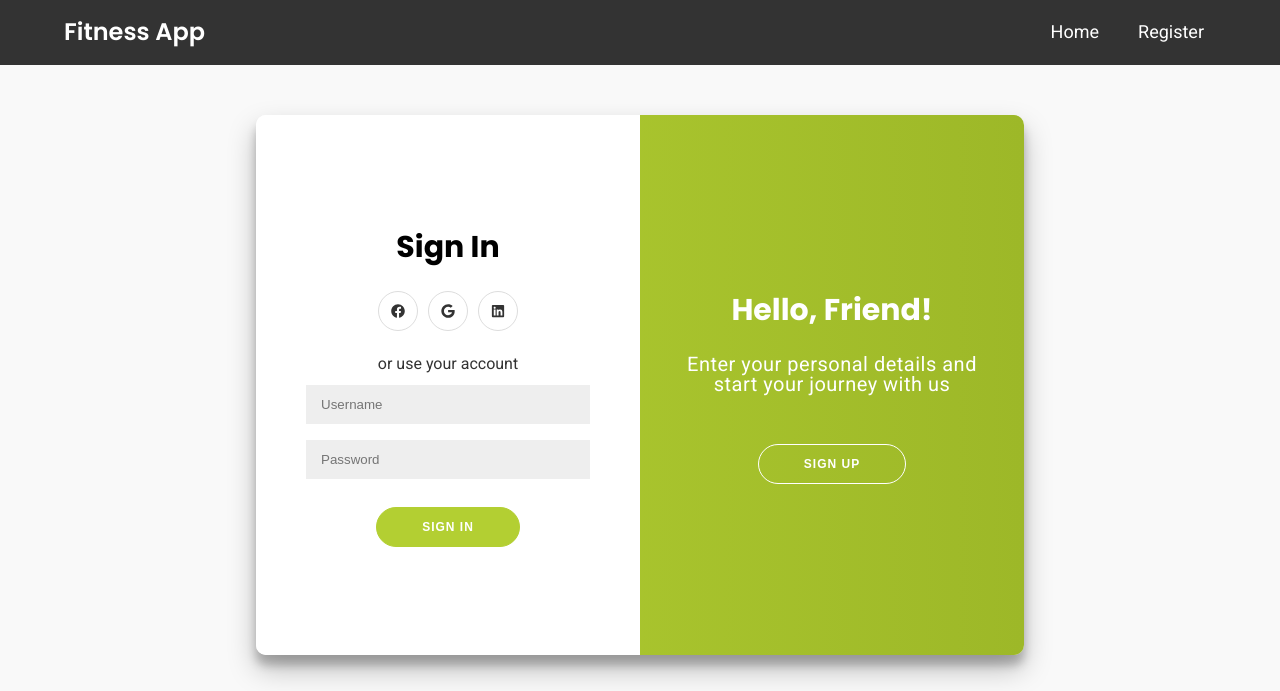
Test: AuthContainer E2E Tests › should toggle back to Sign In panel when clicking Sign In
Click the button with test id "sign-up-button": (832, 464) [758, 444, 906, 484]
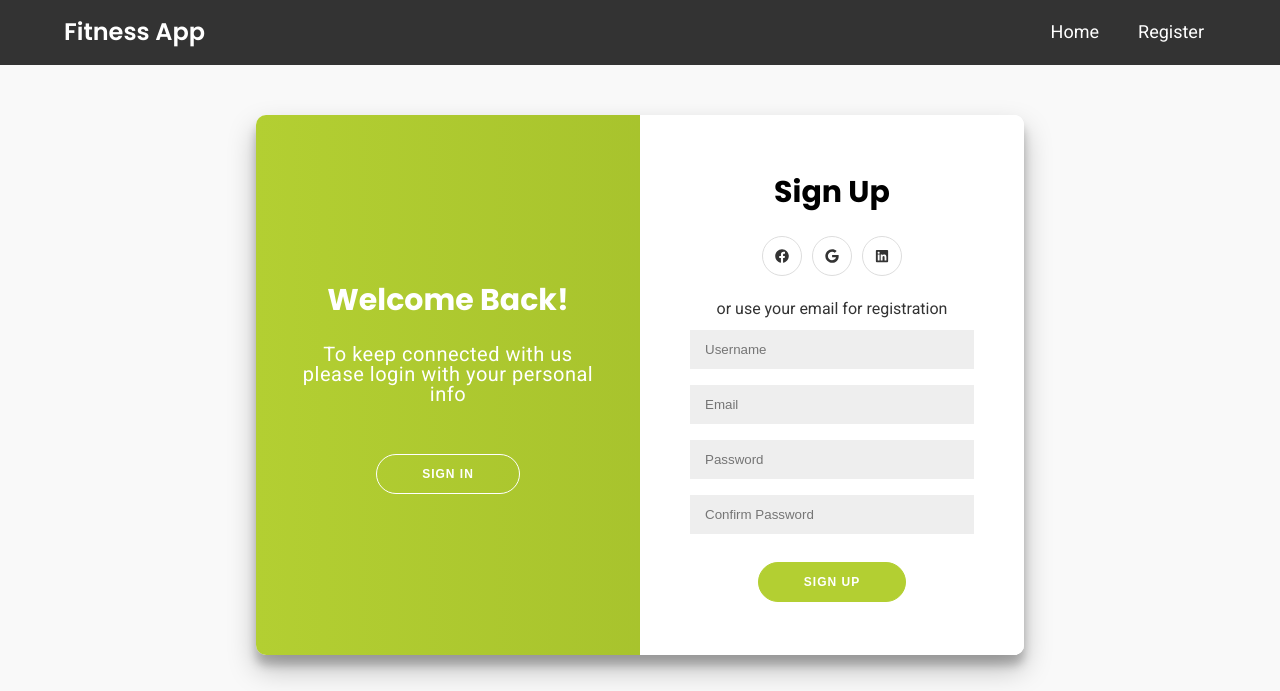
Scroll
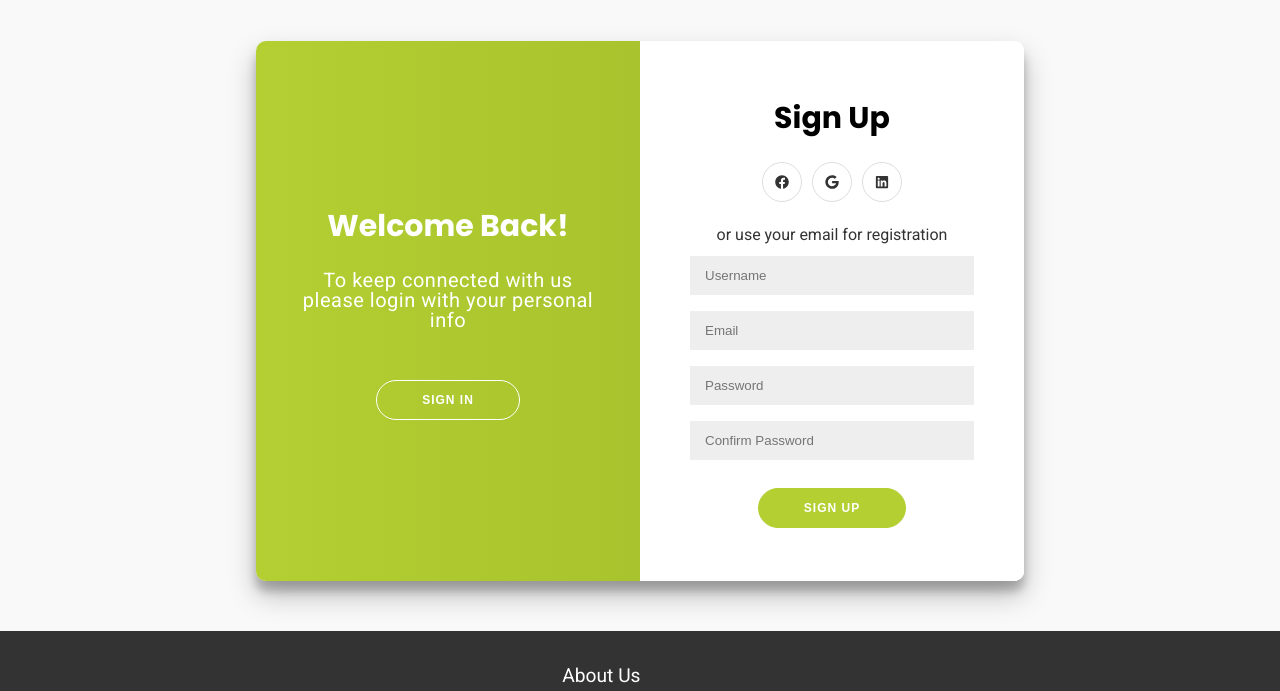
Click the button with test id "sign-in-button": (448, 400) [376, 380, 520, 420]
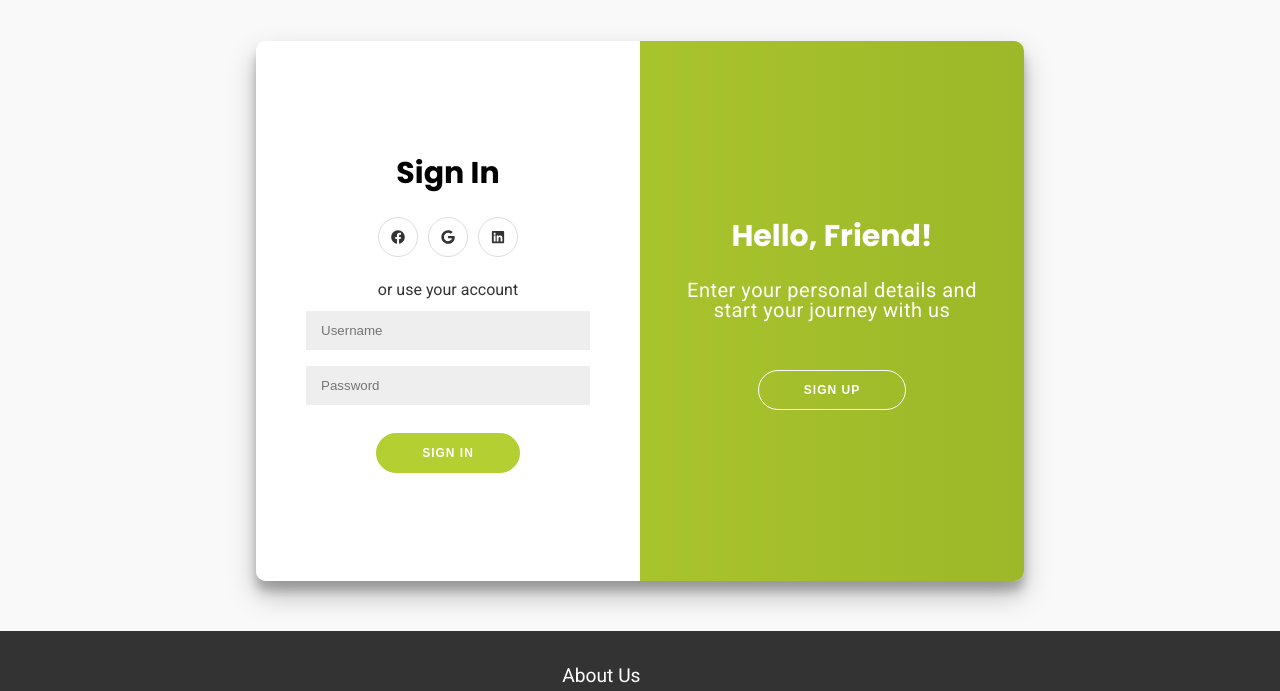
expect the element with test id "sign-in-container" is shown: met, box [256, 41, 640, 581]
expect the element with test id "sign-up-container" is gone: met
